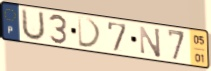3: (47, 13, 69, 46)
7: (106, 21, 128, 53), (166, 28, 186, 62)
D: (76, 15, 104, 50)
N: (138, 25, 162, 60)
U: (20, 7, 47, 43)
